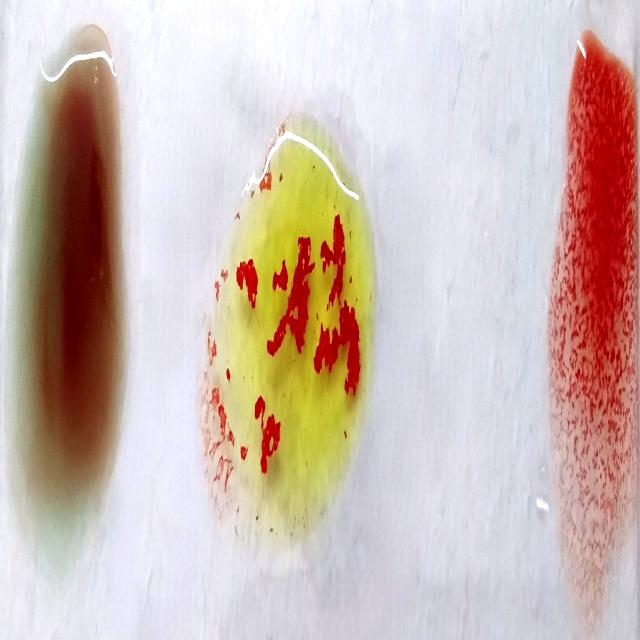B: (215, 127, 366, 528)
D: (555, 38, 640, 616)
